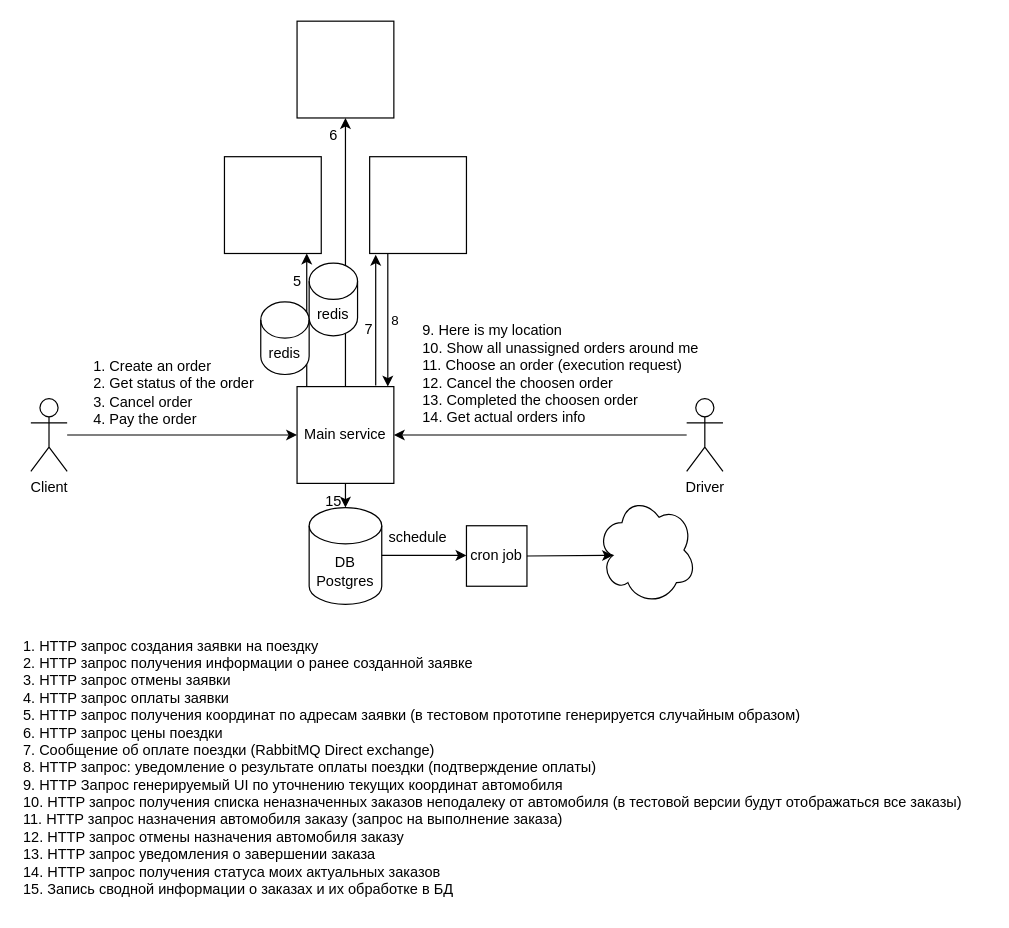
Some shapes in this 1009 by 928 pixel diagram are drawn without their labels. Each missing label, with the centre of its shape:
Coordinate service: pixel 272 204
Pay service: pixel 417 204
Price service: pixel 345 69
S3: pixel 646 549
